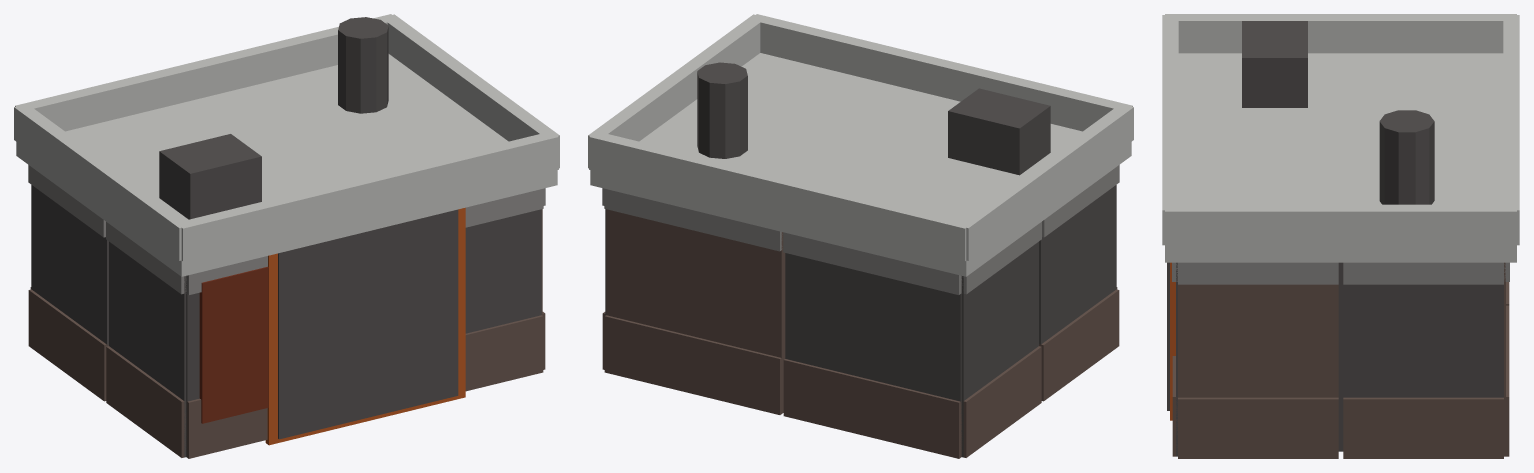
The model's file is B_shed_a.glb.
The picture shows the model from 3 angles, left to right: view 1: azimuth 30°, elevation 25°; view 2: azimuth 150°, elevation 25°; view 3: azimuth 270°, elevation 25°; orthographic projection. The views are drawn at different scales.
Parts seen in each view (by area): view 1: Cube.029, Cube.028, Cube.030, Cube.031, Cube.024, Cube.012, Cube.015, Cube.003, Cube.032, Cube.034, Cube.033, Cube.013 (+10 smaller); view 2: Cube.029, Cube.009, Cube.006, Cube.031, Cube.030, Cube.010, Cube.007, Cube.015, Cube.012, Cube.032, Cube.034, Cube.033 (+7 smaller); view 3: Cube.029, Cube.018, Cube.021, Cube.033, Cube.032, Cube.019, Cube.022, Cube.034, Cylinder, Cube.020, Cube.023, Cube.030 (+8 smaller).
Part boxes in pixels (left/top/right/bottom): Cube.029: left=16, top=54, right=557, bottom=276; Cube.028: left=278, top=209, right=458, bottom=439; Cube.030: left=175, top=131, right=558, bottom=261; Cube.031: left=15, top=14, right=397, bottom=131; Cube.024: left=199, top=266, right=268, bottom=423; Cube.012: left=109, top=241, right=186, bottom=457; Cube.015: left=31, top=185, right=108, bottom=346; Cube.003: left=465, top=209, right=541, bottom=333; Cube.032: left=14, top=104, right=190, bottom=260; Cube.034: left=159, top=134, right=261, bottom=219; Cube.033: left=382, top=14, right=559, bottom=168; Cube.013: left=106, top=346, right=186, bottom=457; Cube.029: left=590, top=53, right=1131, bottom=276; Cube.009: left=606, top=209, right=785, bottom=413; Cube.006: left=785, top=253, right=961, bottom=455; Cube.031: left=589, top=131, right=972, bottom=261; Cube.030: left=750, top=14, right=1132, bottom=131; Cube.010: left=604, top=315, right=785, bottom=414; Cube.007: left=783, top=359, right=961, bottom=458; Cube.015: left=961, top=241, right=1038, bottom=457; Cube.012: left=1039, top=185, right=1116, bottom=344; Cube.032: left=956, top=104, right=1133, bottom=260; Cube.034: left=948, top=88, right=1050, bottom=175; Cube.033: left=588, top=14, right=764, bottom=168; Cube.029: left=1165, top=53, right=1516, bottom=262; Cube.018: left=1178, top=284, right=1338, bottom=397; Cube.021: left=1343, top=284, right=1503, bottom=397; Cube.033: left=1165, top=204, right=1516, bottom=246; Cube.032: left=1165, top=14, right=1516, bottom=53; Cube.019: left=1178, top=397, right=1338, bottom=458; Cube.022: left=1343, top=397, right=1503, bottom=458; Cube.034: left=1242, top=21, right=1307, bottom=107; Cylinder: left=1379, top=110, right=1434, bottom=204; Cube.020: left=1178, top=262, right=1338, bottom=284; Cube.023: left=1343, top=262, right=1503, bottom=284; Cube.030: left=1162, top=15, right=1178, bottom=245.
Size of the model in its own units: 8.5 by 6.1 by 6.5.
